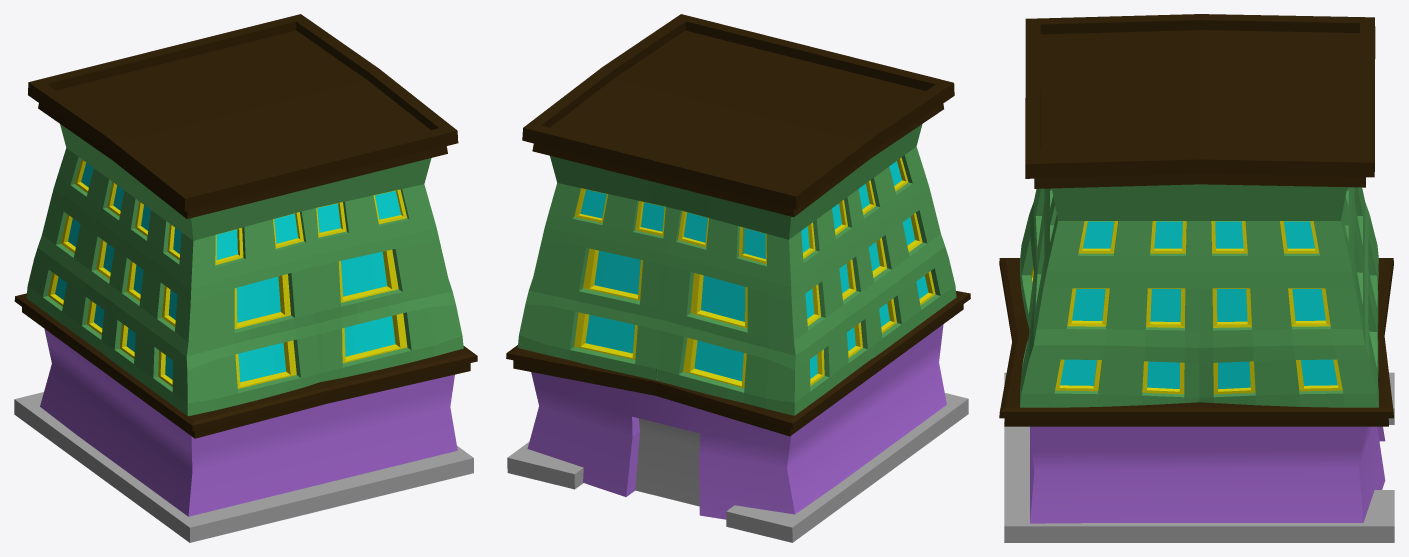
Rendered from SM_Goal_1.fbx.
The picture shows the model from 3 angles, left to right: view 1: azimuth 30°, elevation 25°; view 2: azimuth 150°, elevation 25°; view 3: azimuth 270°, elevation 25°; orthographic projection. The views are drawn at different scales.
Visible parts, largest first — view 1: SM_Goal_1; view 2: SM_Goal_1; view 3: SM_Goal_1.
Boxes of the visible parts, x1,y1,x2,y2 form: SM_Goal_1: [14, 14, 477, 542]; SM_Goal_1: [506, 14, 970, 542]; SM_Goal_1: [999, 14, 1394, 542].
Size of what is drawn, in the model's own units: 3869 by 4428 by 4172.
